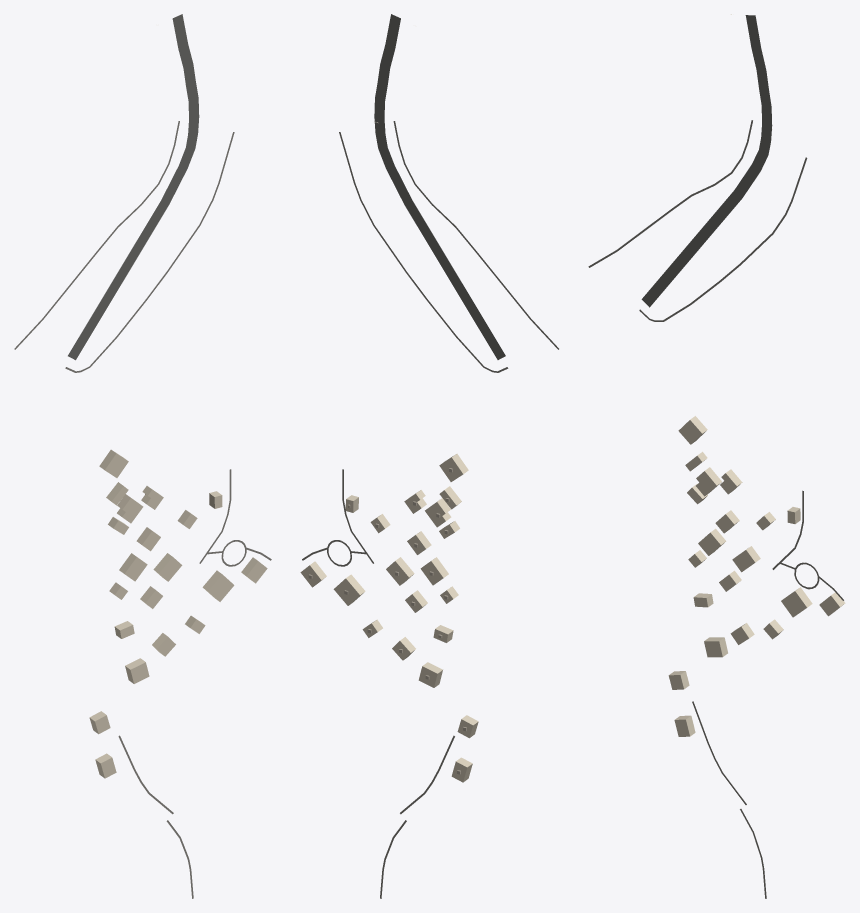
The model's file is historic-palestine-09_30_3512_3242.glb.
3 views of the same model, side by side, from view 1: azimuth 30°, elevation 25°; view 2: azimuth 150°, elevation 25°; view 3: azimuth 330°, elevation 25° (orthographic).
Parts seen in each view (by area): view 1: Road 5853, Road, Road .001, Building_.008; view 2: Road 5853, Road, Road .001, Building_.008; view 3: Road 5853, Road, Road .001, Building_.008.
Part boxes in pixels (x1,y1,x2,y2): Road 5853: (68, 14, 199, 360); Road: (65, 132, 234, 372); Road .001: (14, 121, 179, 349); Building_.008: (202, 570, 234, 601); Road 5853: (374, 14, 505, 359); Road: (339, 132, 508, 372); Road .001: (393, 121, 558, 349); Building_.008: (333, 574, 365, 605); Road 5853: (641, 15, 772, 307); Road: (639, 157, 807, 321); Road .001: (588, 120, 752, 267); Building_.008: (781, 587, 812, 617).
Size of the model in its own units: 203 by 668 by 8.7.
